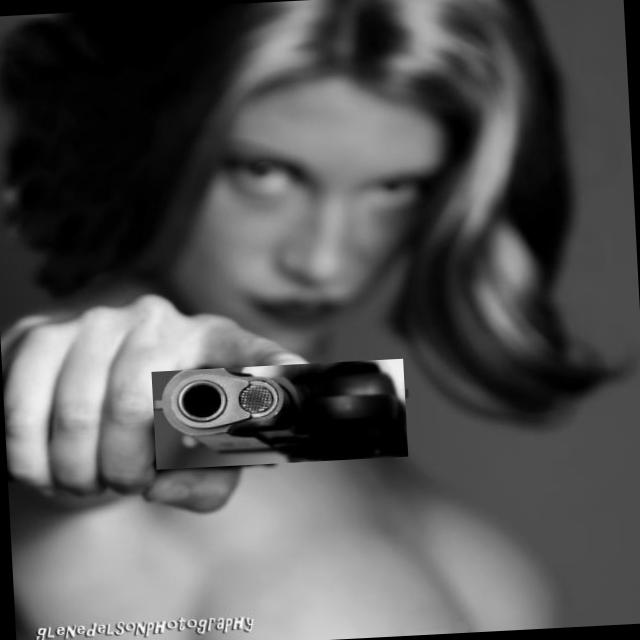Gun: (153, 362, 408, 463)
